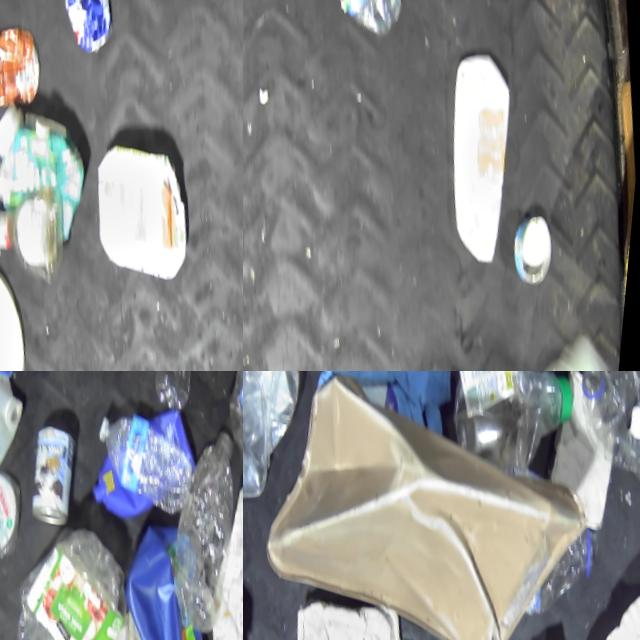can: (21, 418, 90, 531), (0, 21, 52, 108), (512, 210, 565, 288), (57, 0, 124, 56)
milk_jug: (0, 371, 38, 493)
non_white_jug: (109, 513, 237, 640), (0, 107, 105, 251)
plastic_bottle: (152, 424, 243, 637), (0, 520, 151, 640), (443, 371, 590, 481), (88, 400, 206, 525), (572, 371, 640, 493), (525, 528, 612, 617)
